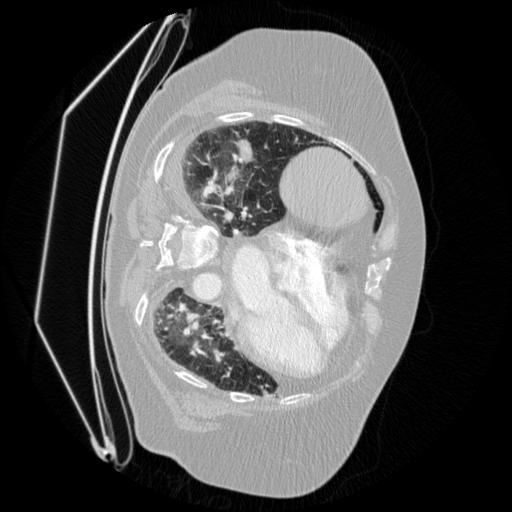nodule: (233, 137, 262, 166)
